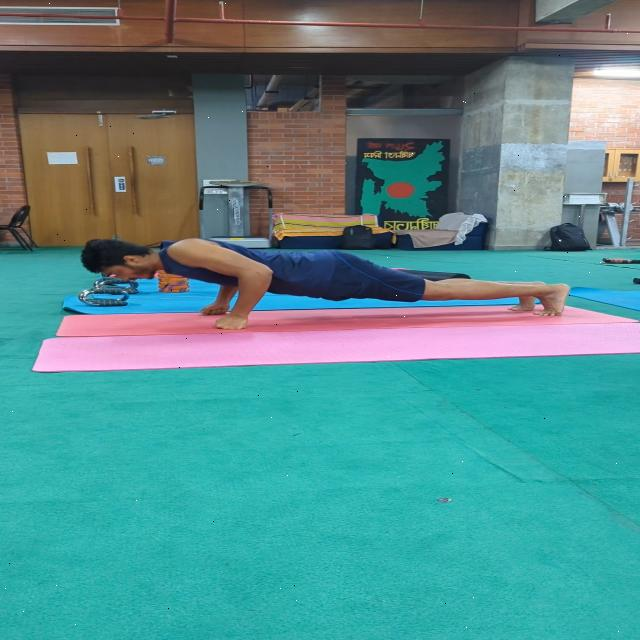Normal_PushUps: (68, 232, 587, 342)
